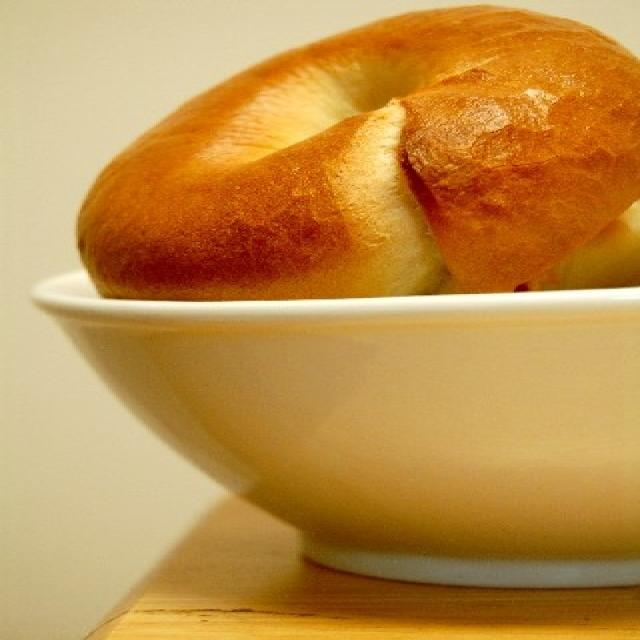面包点心: (24, 5, 628, 607)
